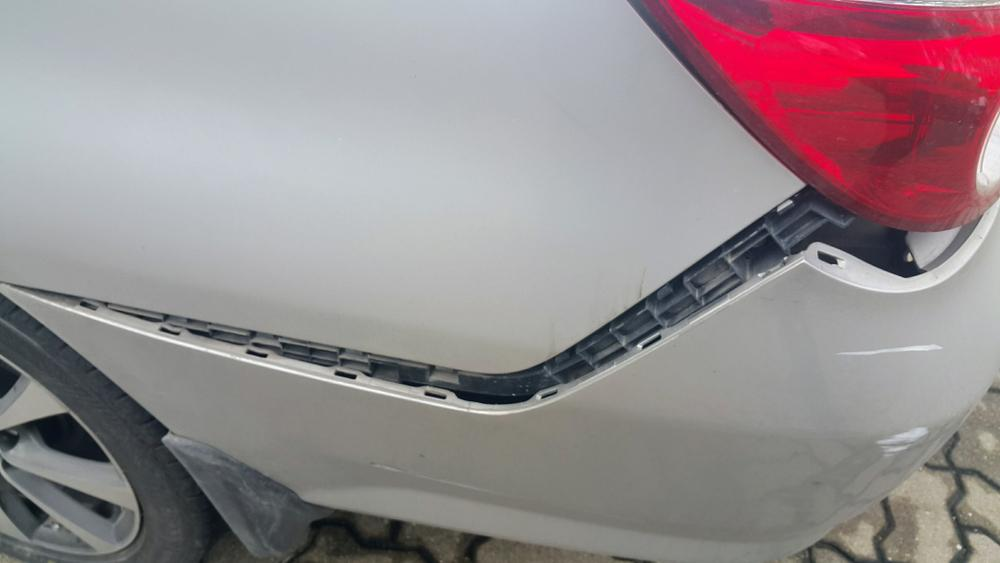scratch: (837, 342, 950, 361), (869, 423, 938, 454)
